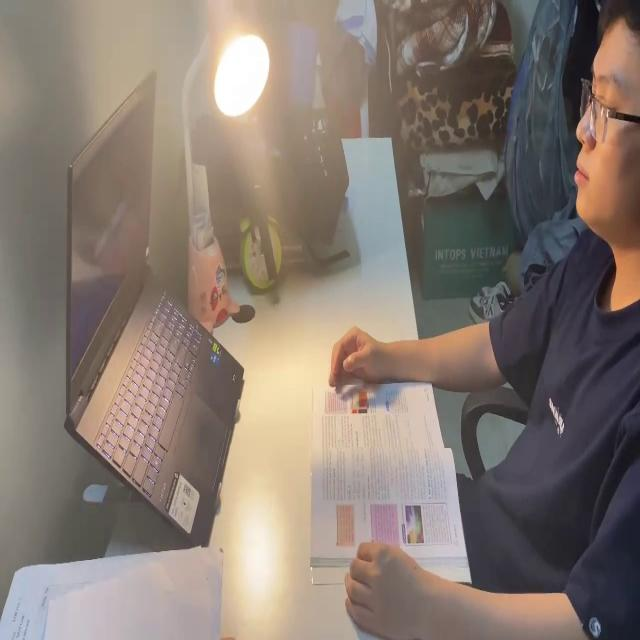book: (308, 361, 474, 584), (2, 544, 222, 640)
laptop: (64, 61, 245, 550)
student: (326, 0, 640, 640)
